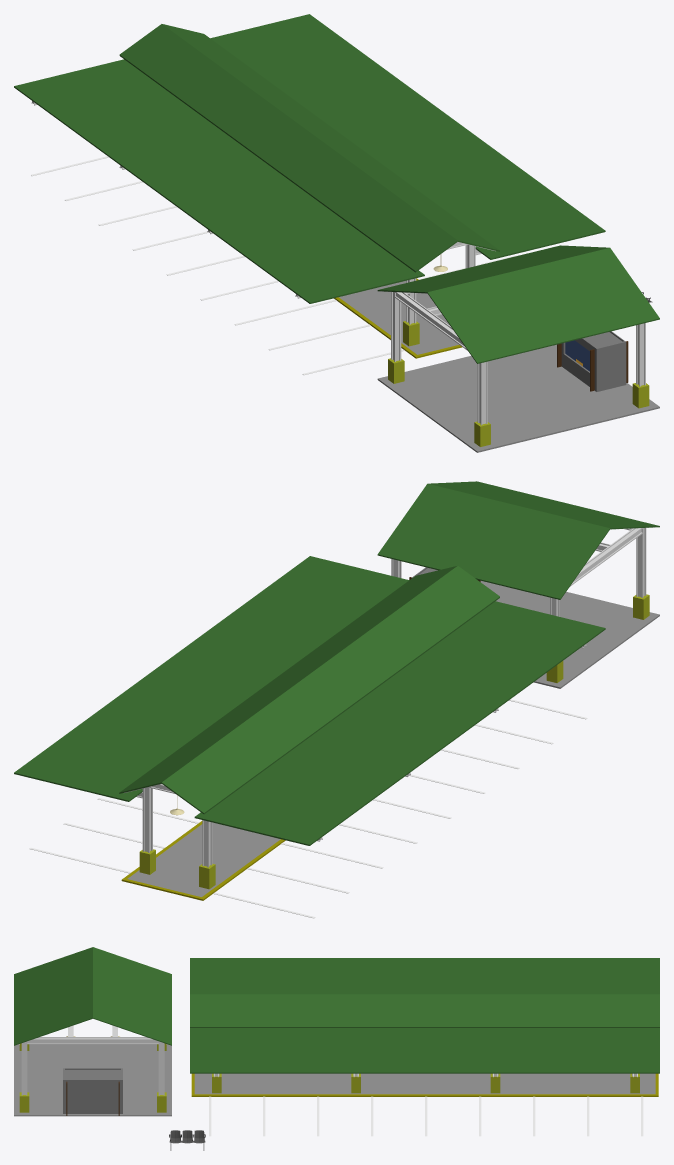
The model's file is Jeep Terminal.fbx.
3 views of the same model, one above another, from view 1: azimuth 30°, elevation 25°; view 2: azimuth 150°, elevation 25°; view 3: azimuth 270°, elevation 25° (orthographic). The views are drawn at different scales.
Parts seen in each view (by area): view 1: Mini Roof, Roof, Mid Roof, Mid Concrete, Concrete, Mid Pillars, Small Bldg, Markings, Mid Roof Big Support, Pillars; view 2: Mini Roof, Roof, Mid Roof, Concrete, Mid Concrete, Markings, Pillars, Mid Pillars, Mid Roof Big Support; view 3: Mini Roof, Roof, Mid Roof, Concrete, Mid Concrete, Small Bldg, Mid Pillars, Mid Roof Big Support, Markings, Pillars.
Part boxes in pixels (box(x1,y1,x2,y2)): Mini Roof: box(14, 14, 605, 303); Roof: box(119, 24, 499, 272); Mid Roof: box(377, 245, 659, 363); Mid Concrete: box(377, 344, 659, 452); Concrete: box(334, 278, 462, 358); Mid Pillars: box(388, 292, 649, 446); Small Bldg: box(561, 331, 626, 391); Markings: box(31, 156, 519, 375); Mid Roof Big Support: box(395, 292, 467, 350); Pillars: box(403, 244, 475, 346); Mini Roof: box(14, 556, 605, 845); Roof: box(119, 565, 499, 814); Mid Roof: box(377, 481, 659, 599); Concrete: box(121, 821, 285, 900); Mid Concrete: box(480, 581, 659, 688); Markings: box(29, 699, 587, 918); Pillars: box(139, 787, 215, 889); Mid Pillars: box(391, 528, 649, 682); Mid Roof Big Support: box(570, 528, 642, 586); Mini Roof: box(190, 958, 659, 1073); Roof: box(190, 994, 659, 1027); Mid Roof: box(14, 947, 171, 1045); Concrete: box(191, 1073, 658, 1096); Mid Concrete: box(14, 1044, 171, 1116); Small Bldg: box(63, 1068, 122, 1113); Mid Pillars: box(19, 1041, 166, 1112); Mid Roof Big Support: box(27, 1025, 158, 1044); Markings: box(209, 1096, 643, 1136); Pillars: box(212, 1073, 639, 1093).
Bounding box in the file's own units: 2250 × 807 × 4787.
